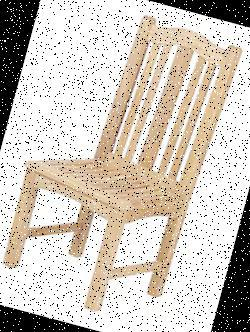Silla: (0, 0, 247, 327)
